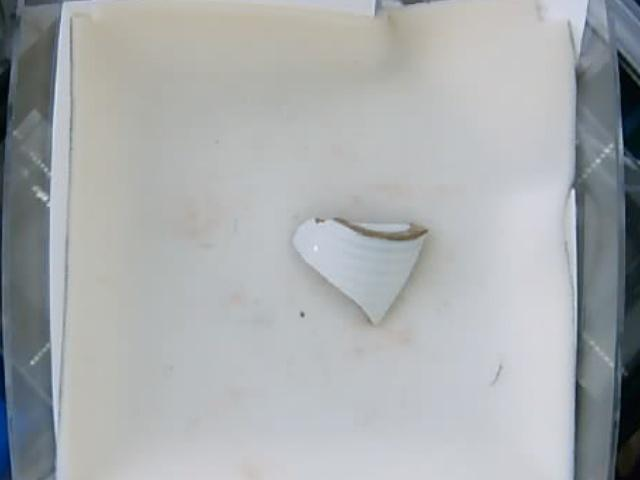China: (292, 215, 428, 327)
